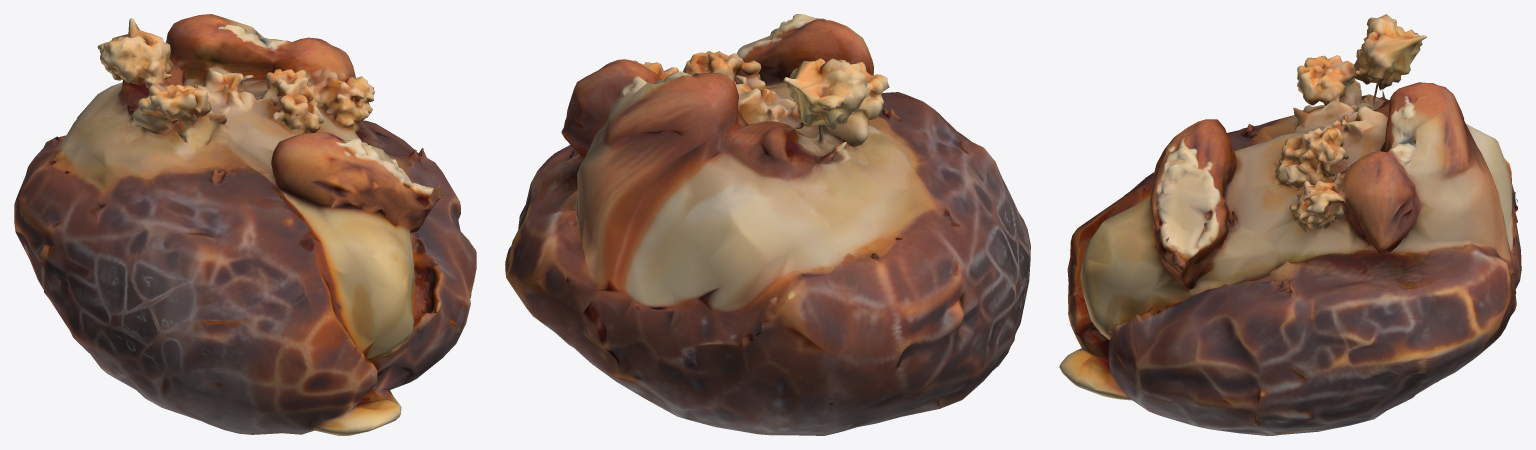
File: corne-de-gazelle.glb
The picture shows the model from 3 angles, left to right: view 1: azimuth 30°, elevation 25°; view 2: azimuth 150°, elevation 25°; view 3: azimuth 270°, elevation 25°; orthographic projection. The views are drawn at different scales.
Size of the model in its own units: 1.85 by 1.61 by 2.
Materials: 1 (1 with a texture image).
